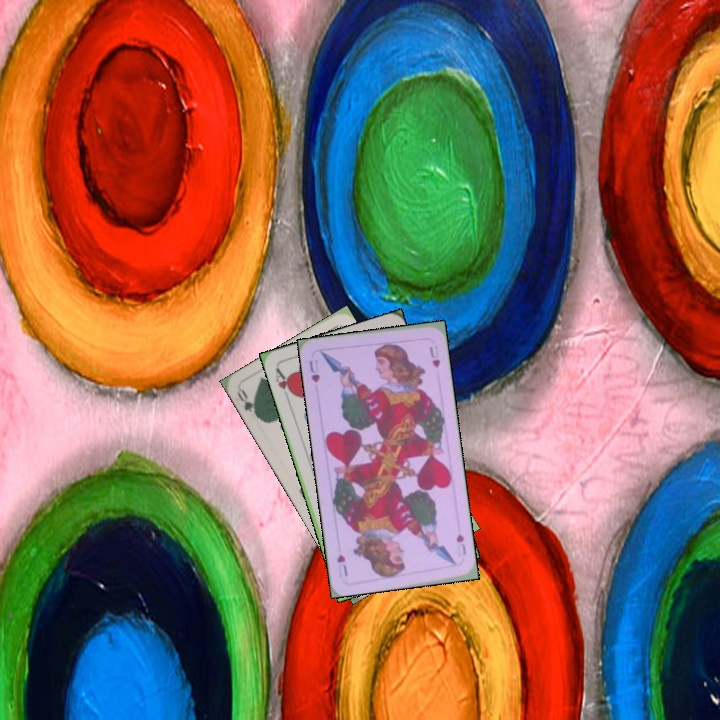GO: (233, 385, 263, 421)
HA: (271, 364, 297, 403)
HU: (305, 356, 323, 385), (452, 530, 469, 559)
